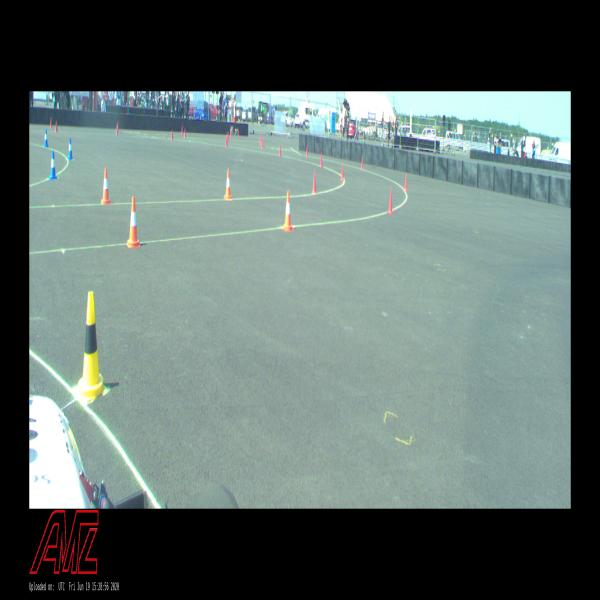blue_cone: (49, 151, 57, 179), (68, 138, 74, 160), (44, 128, 48, 148)
orange_cone: (126, 197, 140, 248), (283, 190, 293, 230), (100, 168, 110, 204), (224, 169, 232, 199)
yellow_cone: (76, 291, 107, 398)
